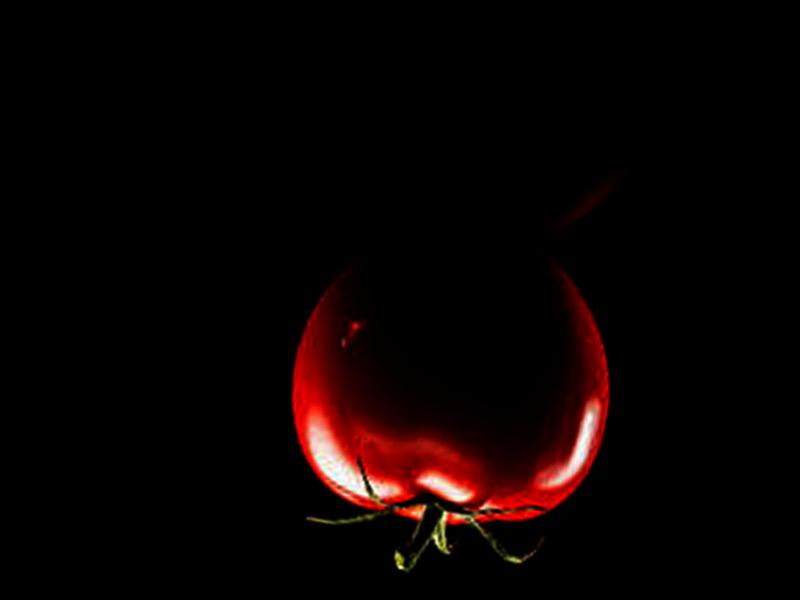Tomato: (269, 218, 631, 556)
